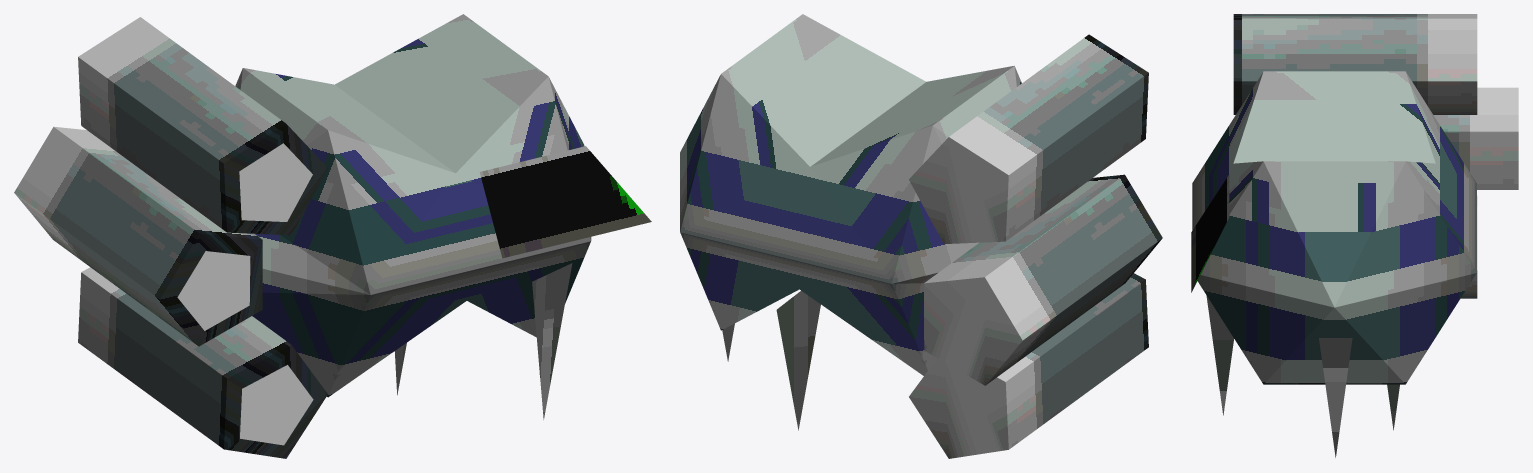
The model's file is model_048_robot_noname.glb.
3 views of the same model, side by side, from view 1: azimuth 30°, elevation 25°; view 2: azimuth 150°, elevation 25°; view 3: azimuth 270°, elevation 25° (orthographic). The views are drawn at different scales.
Parts seen in each view (by area): view 1: model_048; view 2: model_048; view 3: model_048.
Part boxes in pixels (box(x1,y1,x2,y2)): model_048: box(14, 14, 651, 458); model_048: box(680, 14, 1162, 458); model_048: box(1191, 14, 1518, 457).
Size of the model in its own units: 18 by 14.49 by 13.09.
Materials: 5 (4 with a texture image).
